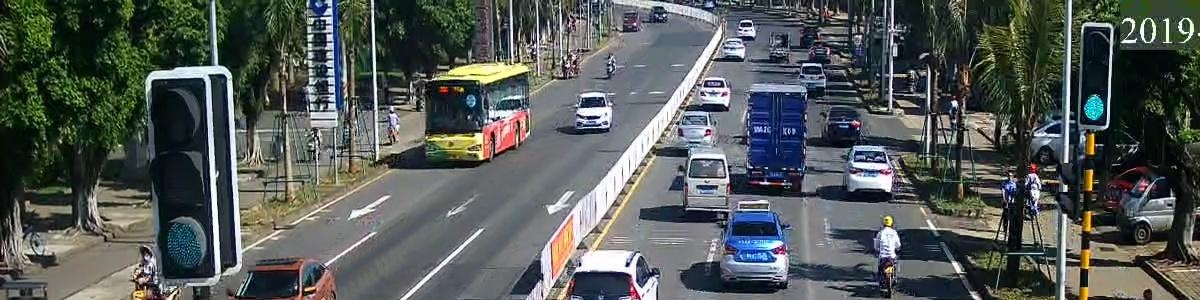green: (127, 211, 238, 274), (1058, 80, 1122, 135)
